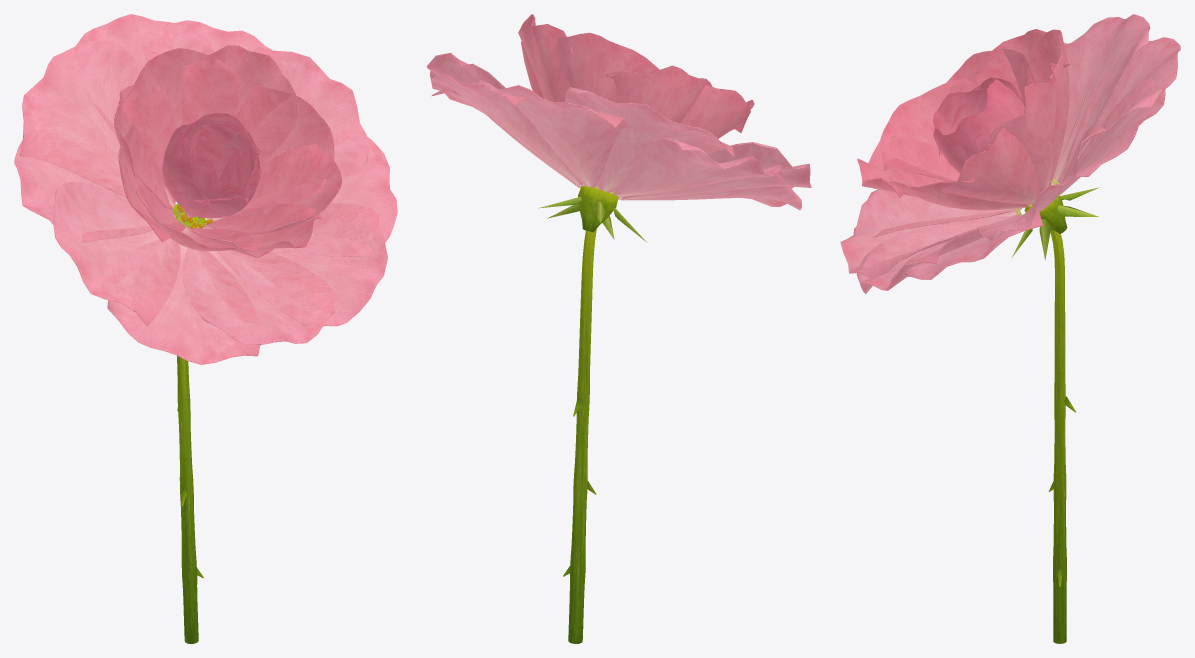
The model's file is rose_23.glb.
The picture shows the model from 3 angles, left to right: view 1: azimuth 30°, elevation 25°; view 2: azimuth 150°, elevation 25°; view 3: azimuth 270°, elevation 25°; orthographic projection. The views are drawn at different scales.
Visible parts, largest first — view 1: Petal_1_outer_03, Petal_3_outer_04, Petal_5_outer_04, Petal_6_outer_02, Petal_4_outer_01, Petal_14_middle_03, Petal_15_middle_01, Petal_8_outer_02, Petal_7_outer_03, Petal_13_middle_02, Stem_Skinned, Petal_12_middle_04 (+12 smaller); view 2: Stem_Skinned, Petal_0_outer_01, Petal_2_outer_02, Petal_1_outer_03, Petal_15_middle_01, Petal_16_middle_02, Petal_9_outer_03, Petal_3_outer_04, Petal_14_middle_03, Petal_17_middle_04, Hypanthium_and_five_sepals, Petal_8_outer_02 (+1 smaller); view 3: Petal_1_outer_03, Stem_Skinned, Petal_5_outer_04, Petal_13_middle_02, Petal_0_outer_01, Petal_6_outer_02, Petal_14_middle_03, Petal_10_middle_01, Petal_9_outer_03, Petal_11_middle_03, Petal_15_middle_01, Petal_12_middle_04 (+10 smaller).
Boxes of the visible parts, bbox=[...] form: Petal_1_outer_03: bbox=[19, 41, 141, 197]; Petal_3_outer_04: bbox=[53, 181, 180, 326]; Petal_5_outer_04: bbox=[182, 248, 337, 345]; Petal_6_outer_02: bbox=[217, 203, 387, 326]; Petal_4_outer_01: bbox=[107, 238, 260, 364]; Petal_14_middle_03: bbox=[182, 45, 298, 164]; Petal_15_middle_01: bbox=[122, 48, 240, 189]; Petal_8_outer_02: bbox=[253, 47, 369, 178]; Petal_7_outer_03: bbox=[279, 129, 397, 256]; Petal_13_middle_02: bbox=[235, 84, 334, 212]; Stem_Skinned: bbox=[177, 215, 203, 643]; Petal_12_middle_04: bbox=[205, 143, 342, 234]; Stem_Skinned: bbox=[563, 229, 596, 643]; Petal_0_outer_01: bbox=[478, 80, 626, 187]; Petal_2_outer_02: bbox=[614, 137, 783, 197]; Petal_1_outer_03: bbox=[565, 87, 734, 192]; Petal_15_middle_01: bbox=[557, 32, 659, 102]; Petal_16_middle_02: bbox=[605, 65, 712, 123]; Petal_9_outer_03: bbox=[431, 73, 582, 185]; Petal_3_outer_04: bbox=[622, 142, 811, 199]; Petal_14_middle_03: bbox=[518, 14, 576, 102]; Petal_17_middle_04: bbox=[680, 85, 750, 138]; Hypanthium_and_five_sepals: bbox=[538, 186, 646, 242]; Petal_8_outer_02: bbox=[426, 52, 577, 185]; Petal_1_outer_03: bbox=[1052, 14, 1150, 184]; Stem_Skinned: bbox=[1048, 230, 1075, 643]; Petal_5_outer_04: bbox=[840, 189, 1020, 278]; Petal_13_middle_02: bbox=[937, 115, 1040, 204]; Petal_0_outer_01: bbox=[1059, 37, 1180, 183]; Petal_6_outer_02: bbox=[856, 216, 1016, 294]; Petal_14_middle_03: bbox=[988, 62, 1070, 191]; Petal_10_middle_01: bbox=[880, 78, 977, 181]; Petal_9_outer_03: bbox=[1057, 77, 1165, 197]; Petal_11_middle_03: bbox=[857, 135, 959, 198]; Petal_15_middle_01: bbox=[1027, 29, 1069, 185]; Petal_12_middle_04: bbox=[888, 166, 1028, 210].
Bounding box in the file's own units: 0.1975 × 0.3297 × 0.1706.
7 materials, 7 textured.
